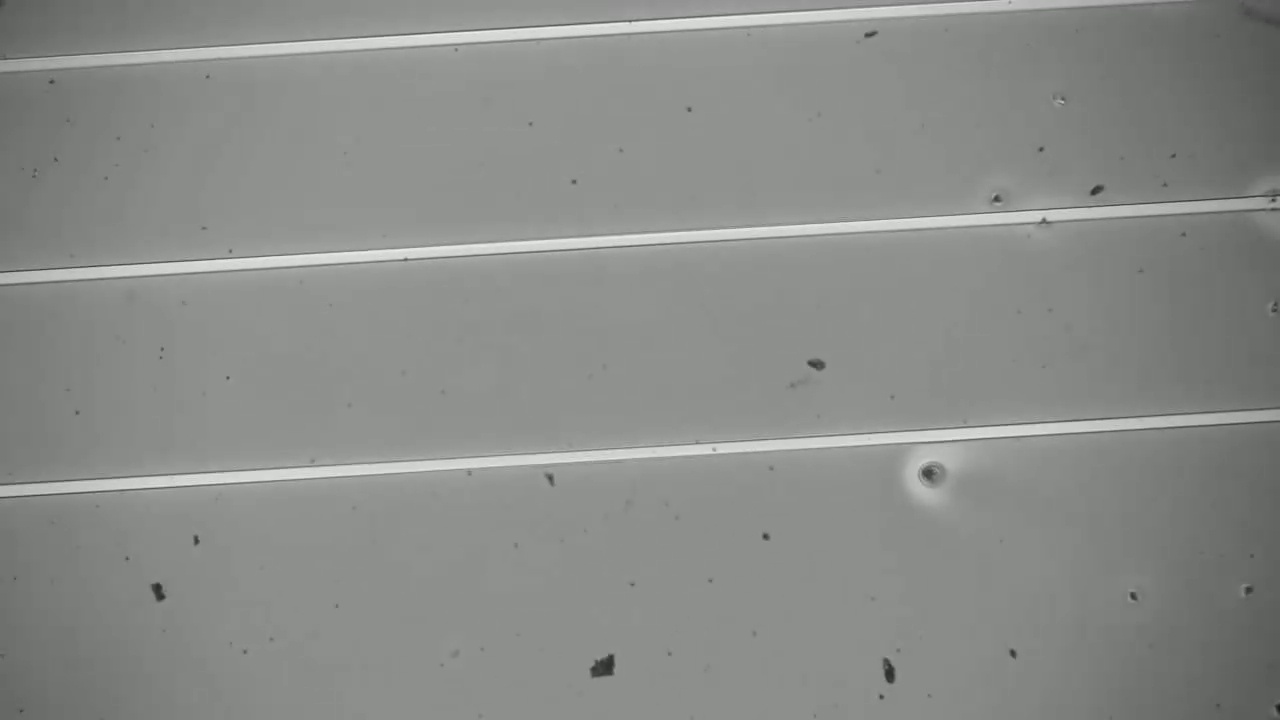stains_enbedded: (1029, 200, 1062, 231)
